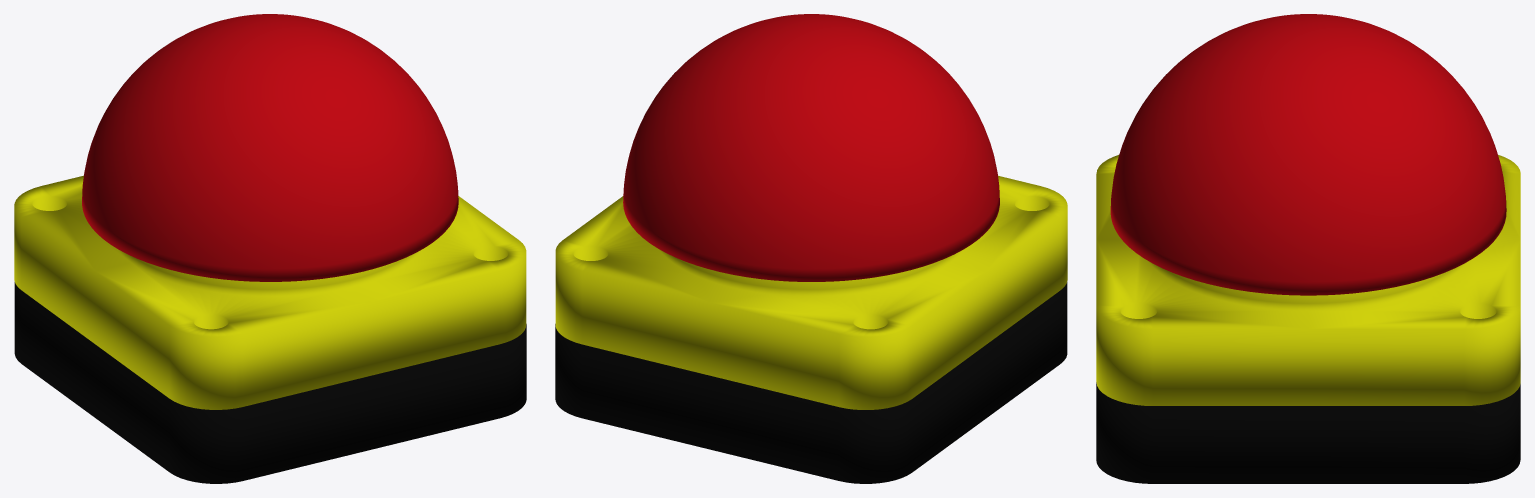
File: buttonanimated.glb
The picture shows the model from 3 angles, left to right: view 1: azimuth 30°, elevation 25°; view 2: azimuth 150°, elevation 25°; view 3: azimuth 270°, elevation 25°; orthographic projection. The views are drawn at different scales.
Parts seen in each view (by area): view 1: Knopf-4x, Deckel-4x-15mm, Boden-15mm; view 2: Knopf-4x, Deckel-4x-15mm, Boden-15mm; view 3: Knopf-4x, Deckel-4x-15mm, Boden-15mm.
Part boxes in pixels (x1,y1,x2,y2): Knopf-4x: [82, 14, 458, 281]; Deckel-4x-15mm: [14, 175, 526, 409]; Boden-15mm: [14, 282, 526, 483]; Knopf-4x: [623, 14, 999, 281]; Deckel-4x-15mm: [555, 175, 1067, 409]; Boden-15mm: [555, 282, 1067, 483]; Knopf-4x: [1110, 14, 1506, 295]; Deckel-4x-15mm: [1096, 155, 1520, 405]; Boden-15mm: [1096, 382, 1520, 483].
Bounding box in the file's own units: 75.06 × 70.55 × 75.04.
